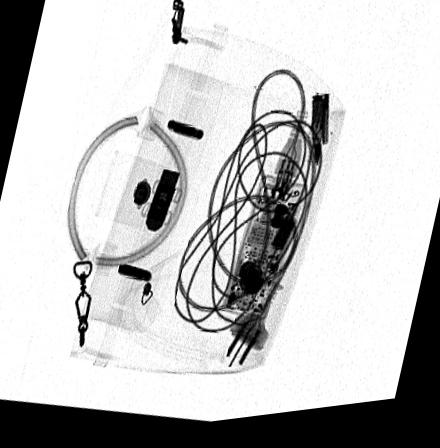Bullet: (309, 101, 323, 175)
